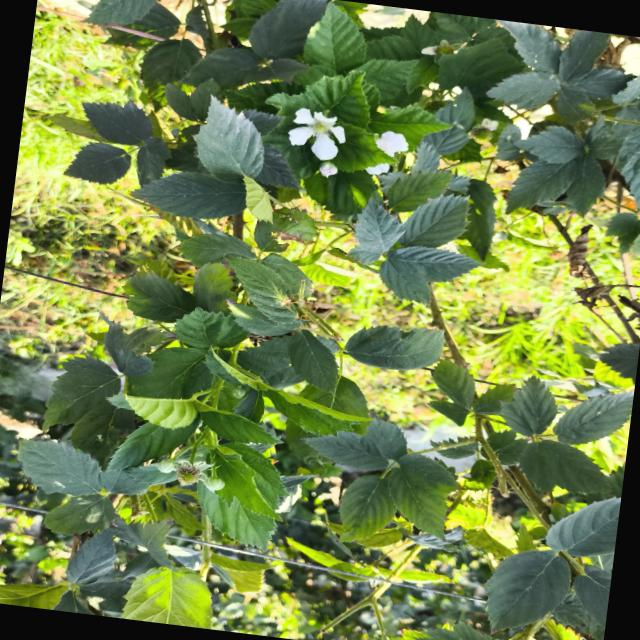boton: (319, 160, 337, 177), (204, 477, 224, 491), (157, 459, 174, 473)
flor: (288, 108, 345, 160), (376, 131, 407, 156), (365, 163, 389, 175)
